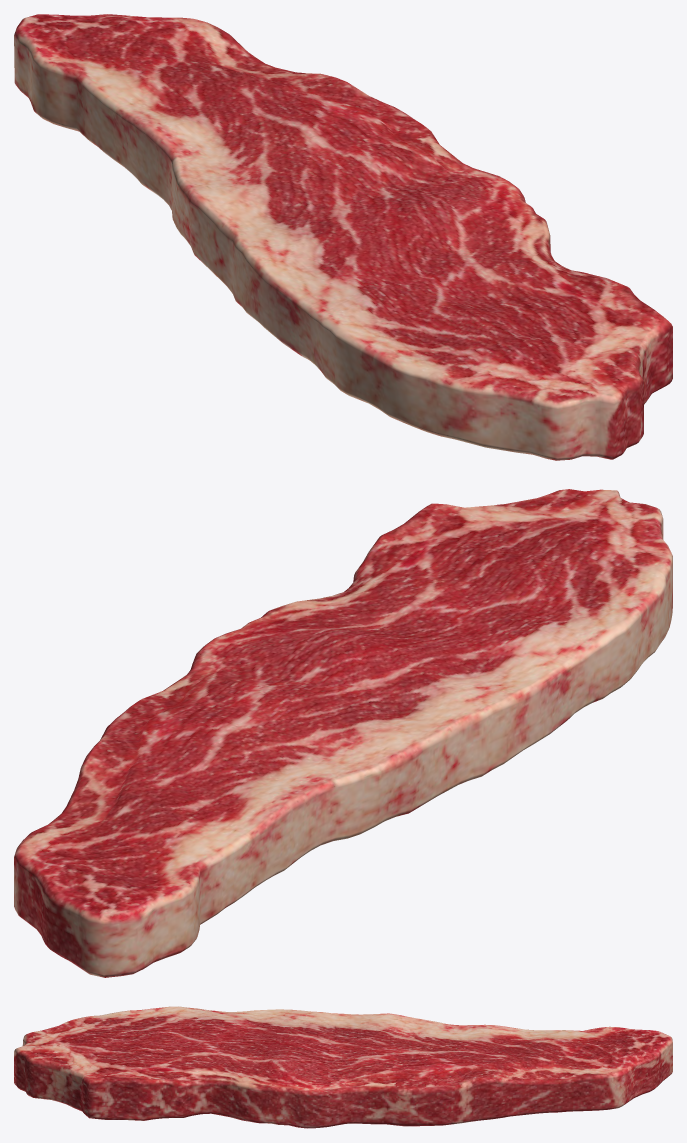
3 renders of one model, top to bottom at view 1: azimuth 30°, elevation 25°; view 2: azimuth 150°, elevation 25°; view 3: azimuth 270°, elevation 25°, orthographic. The views are drawn at different scales.
Parts seen in each view (by area): view 1: sm_food_prepared_steak_c01_mesh_00; view 2: sm_food_prepared_steak_c01_mesh_00; view 3: sm_food_prepared_steak_c01_mesh_00.
Part boxes in pixels (left/top/right/bottom): sm_food_prepared_steak_c01_mesh_00: left=14, top=14, right=672, bottom=460; sm_food_prepared_steak_c01_mesh_00: left=14, top=489, right=672, bottom=977; sm_food_prepared_steak_c01_mesh_00: left=14, top=1006, right=672, bottom=1128.
Bounding box in the file's own units: 0.0448 × 0.0113 × 0.145.
Materials: 1 (1 with a texture image).
